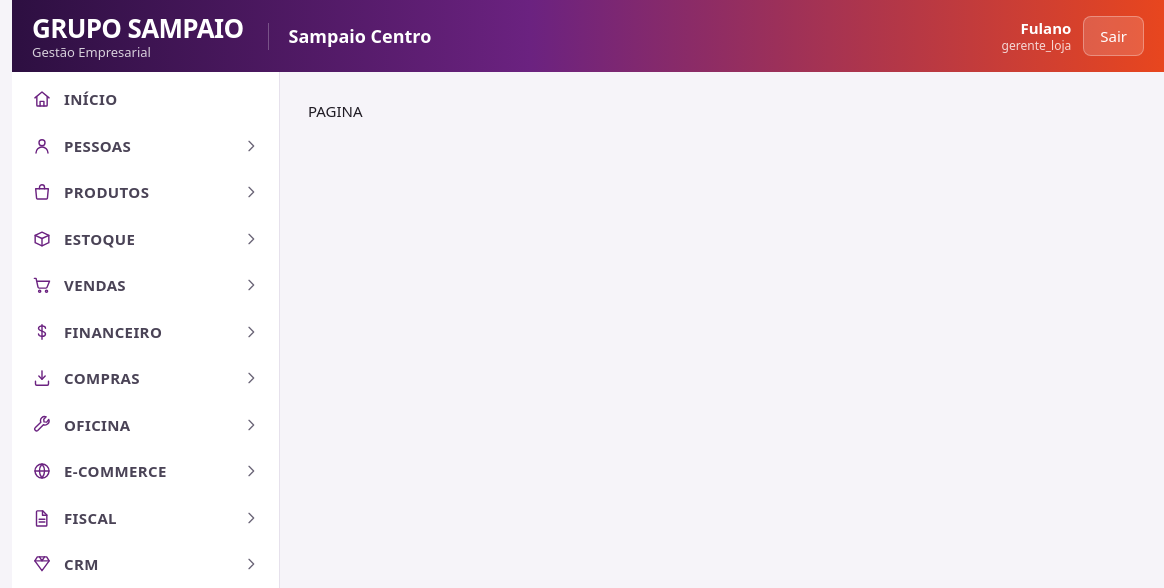
Test: o filtro novo não é tesoura › o gerente de loja vê o Fiscal com os filhos DELE — e sem o A1, que é dos donos
The width and height of the screenshot is (1164, 588).
Click the button "Fiscal": click(90, 518) x1=12 y1=494 x2=279 y2=541
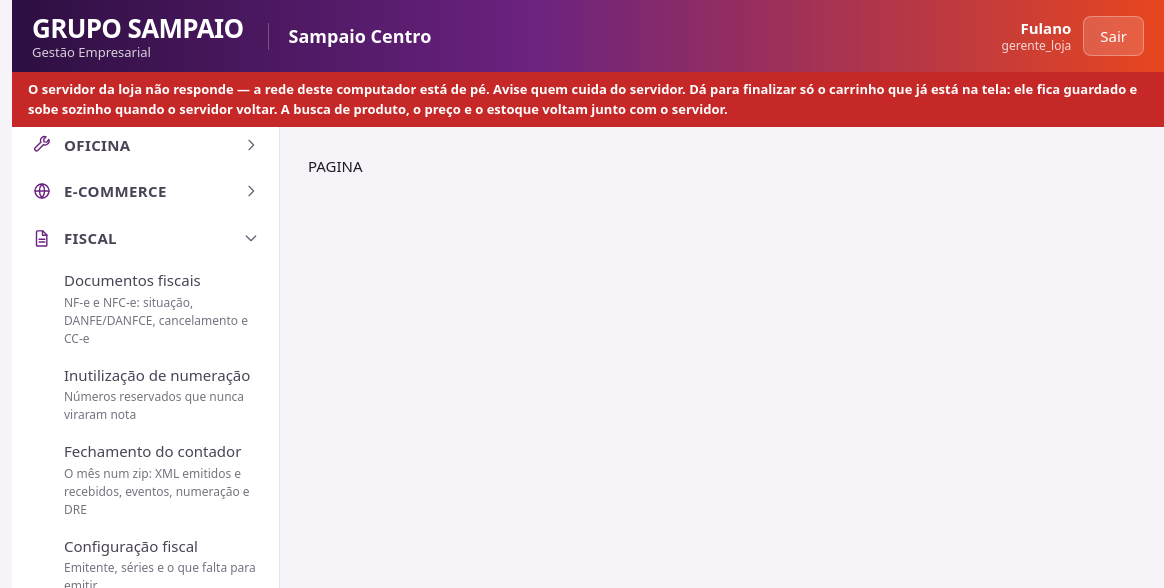
Result: the text "Documentos fiscais" is shown at x1=64 y1=270 x2=201 y2=290
Result: the text "Inutilização de numeração" is shown at x1=64 y1=364 x2=259 y2=386
Result: the text "Configuração fiscal" is shown at x1=64 y1=536 x2=198 y2=556
